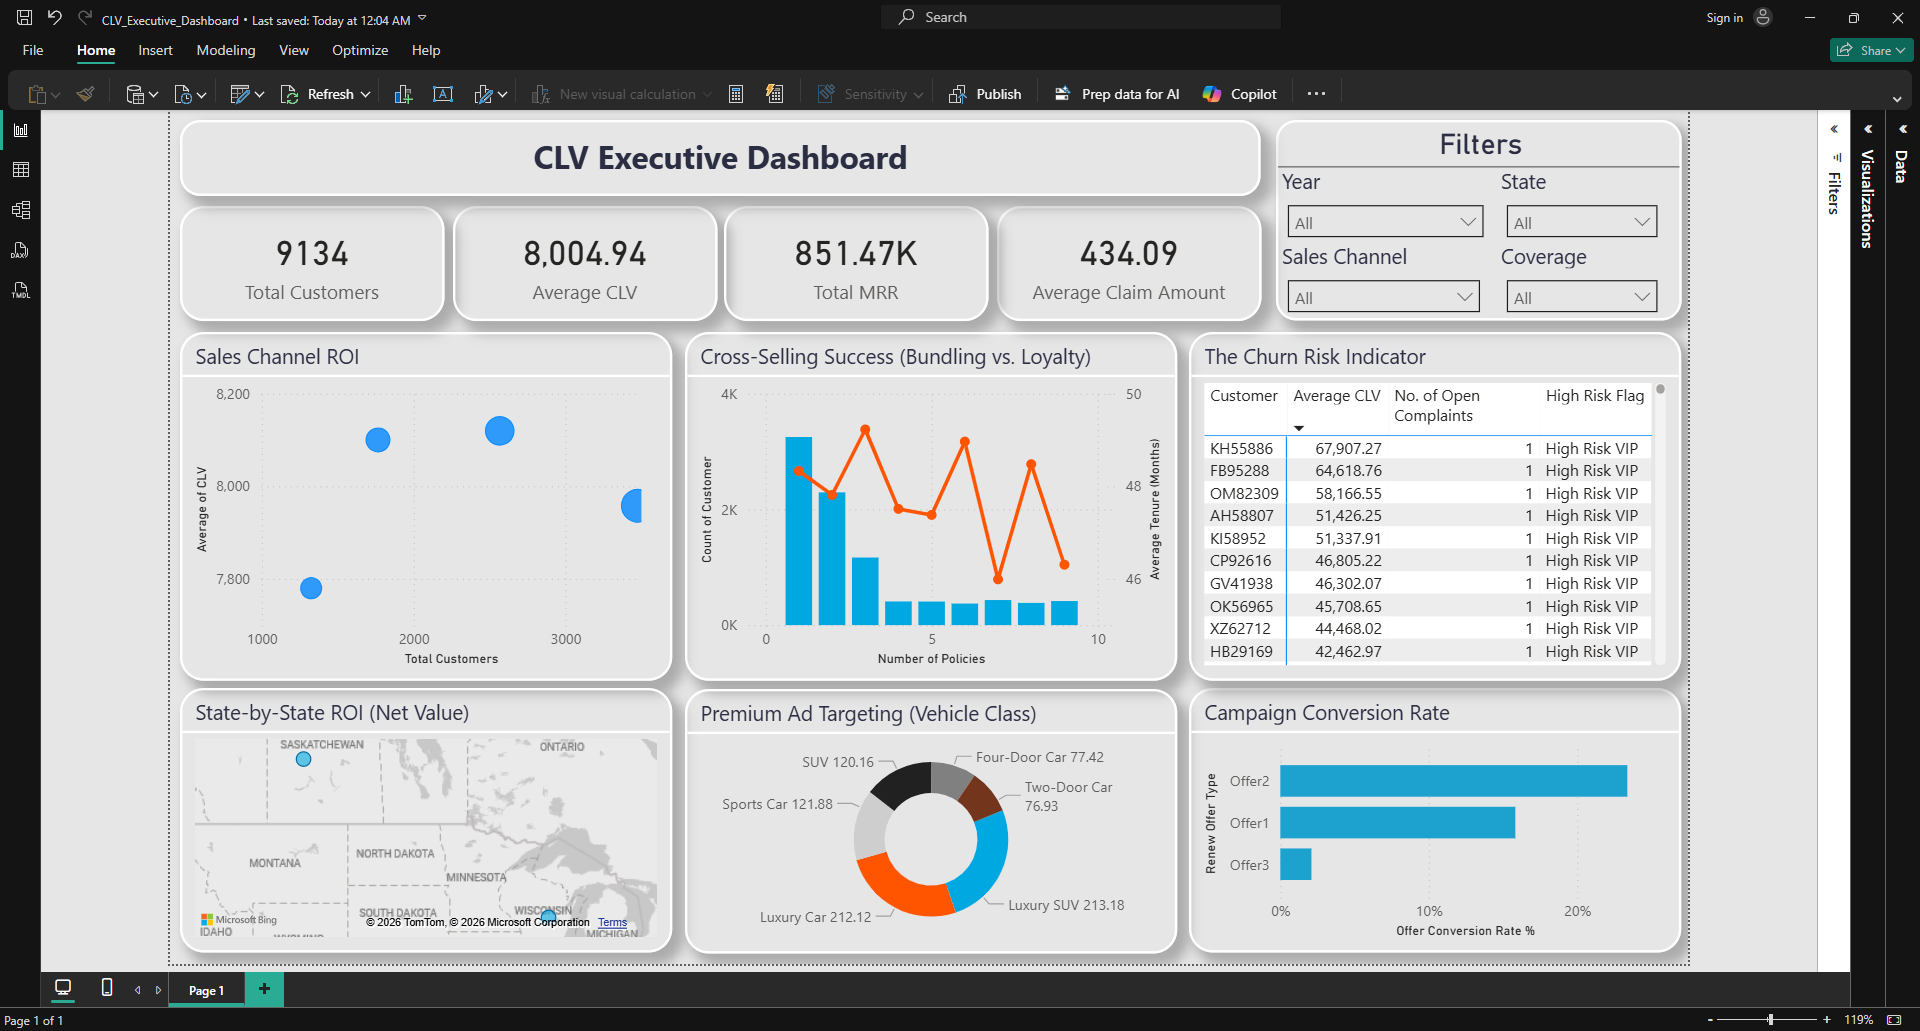

What the dashboard file says about the page in this screenshot:
{"tool":"powerbi","page":{"name":"Page 1","canvas":[1280,720],"ordinal":0},"visuals":[{"type":"card","fields":{"Values":["Count(Auto_Insurance.Customer)"]},"box":[8.6,81.1,222.5,96.6],"z":0},{"type":"card","fields":{"Values":["Avg(Auto_Insurance.Customer_Lifetime_Value)"]},"box":[238.9,81.1,222.5,96.6],"z":1000},{"type":"card","fields":{"Values":["Avg(Auto_Insurance.Total_Claim_Amount)"]},"box":[696.9,81.1,222.5,96.6],"z":2000},{"type":"card","fields":{"Values":["Sum(Auto_Insurance.Monthly_Premium_Auto)"]},"box":[467.5,81.1,222.5,96.6],"z":3000},{"type":"scatterChart","title":"Sales Channel ROI","fields":{"X":["Auto_Insurance.Customer"],"Y":["Avg(Auto_Insurance.Customer_Lifetime_Value)"],"Size":["Sum(Auto_Insurance.Monthly_Premium_Auto)"],"Category":["Auto_Insurance.Sales_Channel"]},"box":[8.6,187.2,415,294.1],"z":4000},{"type":"map","title":"State-by-State ROI (Net Value)","fields":{"Size":["Auto_Insurance.Estimate Net Value"],"Category":["Auto_Insurance.Location_Code"]},"box":[8.6,487.3,414.9,223.4],"z":5000},{"type":"textbox","title":"Filters","box":[932.4,8.6,341.6,169.1],"z":8000},{"type":"slicer","title":"Year","fields":{"Values":["Auto_Insurance.Effective_To_Date.Variation.Date Hierarchy.Year","Auto_Insurance.Effective_To_Date.Variation.Date Hierarchy.Quarter","Auto_Insurance.Effective_To_Date.Variation.Date Hierarchy.Month","Auto_Insurance.Effective_To_Date.Variation.Date Hierarchy.Day"]},"box":[932.4,47.4,184.6,63],"z":9000},{"type":"slicer","title":"Sales Channel","fields":{"Values":["Auto_Insurance.Sales_Channel"]},"box":[932.4,110.4,182,63],"z":10000},{"type":"slicer","title":"State","fields":{"Values":["Auto_Insurance.State"]},"box":[1117.1,47.2,146.7,63.2],"z":11000},{"type":"slicer","title":"Coverage","fields":{"Values":["Auto_Insurance.Coverage"]},"box":[1117.1,110.4,146.7,63.2],"z":12000},{"type":"textbox","title":"aaa","box":[8.4,8.4,911.4,64.1],"z":13000},{"type":"lineClusteredColumnComboChart","title":"Cross-Selling Success (Bundling vs. Loyalty)","fields":{"Y2":["Auto_Insurance.Average Tenure (Months)"],"Category":["Auto_Insurance.Number_of_Policies"],"Y":["CountNonNull(Auto_Insurance.Customer)"]},"box":[433.9,187.2,414.9,294.1],"z":14000},{"type":"donutChart","title":"Premium Ad Targeting (Vehicle Class)","fields":{"Y":["Avg(Auto_Insurance.Monthly_Premium_Auto)"],"Category":["Auto_Insurance.Vehicle_Class"]},"box":[433.9,488.2,414.9,223.4],"z":15000},{"type":"clusteredBarChart","title":"Campaign Conversion Rate","fields":{"Y":["Auto_Insurance.Offer Conversion Rate %"],"Category":["Auto_Insurance.Renew_Offer_Type"]},"box":[859.1,487.3,414.9,223.4],"z":15001},{"type":"pivotTable","title":"The Churn Risk Indicator","fields":{"Values":["Auto_Insurance.Average CLV","Count(Auto_Insurance.Number_of_Open_Complaints)","Auto_Insurance.High Risk Flag"],"Rows":["Auto_Insurance.Customer"]},"box":[859.1,187.2,414.9,294.1],"z":15002}]}

Visuals, with their boxes on the page's 1280x720 design canvas (x1, y1, x2, y2). These are canvas units, not pixel positions in the 1920x1031 screenshot, which may show the page scaled, cropped or inside an application window:
card - Count(Auto_Insurance.Customer): select_region(9, 81, 231, 178)
card - Avg(Auto_Insurance.Customer_Lifetime_Value): select_region(239, 81, 461, 178)
card - Avg(Auto_Insurance.Total_Claim_Amount): select_region(697, 81, 919, 178)
card - Sum(Auto_Insurance.Monthly_Premium_Auto): select_region(468, 81, 690, 178)
"Sales Channel ROI" scatterChart: select_region(9, 187, 424, 481)
"State-by-State ROI (Net Value)" map: select_region(9, 487, 424, 711)
"Filters" textbox: select_region(932, 9, 1274, 178)
"Year" slicer: select_region(932, 47, 1117, 110)
"Sales Channel" slicer: select_region(932, 110, 1114, 173)
"State" slicer: select_region(1117, 47, 1264, 110)
"Coverage" slicer: select_region(1117, 110, 1264, 174)
"aaa" textbox: select_region(8, 8, 920, 72)
"Cross-Selling Success (Bundling vs. Loyalty)" lineClusteredColumnComboChart: select_region(434, 187, 849, 481)
"Premium Ad Targeting (Vehicle Class)" donutChart: select_region(434, 488, 849, 712)
"Campaign Conversion Rate" clusteredBarChart: select_region(859, 487, 1274, 711)
"The Churn Risk Indicator" pivotTable: select_region(859, 187, 1274, 481)
